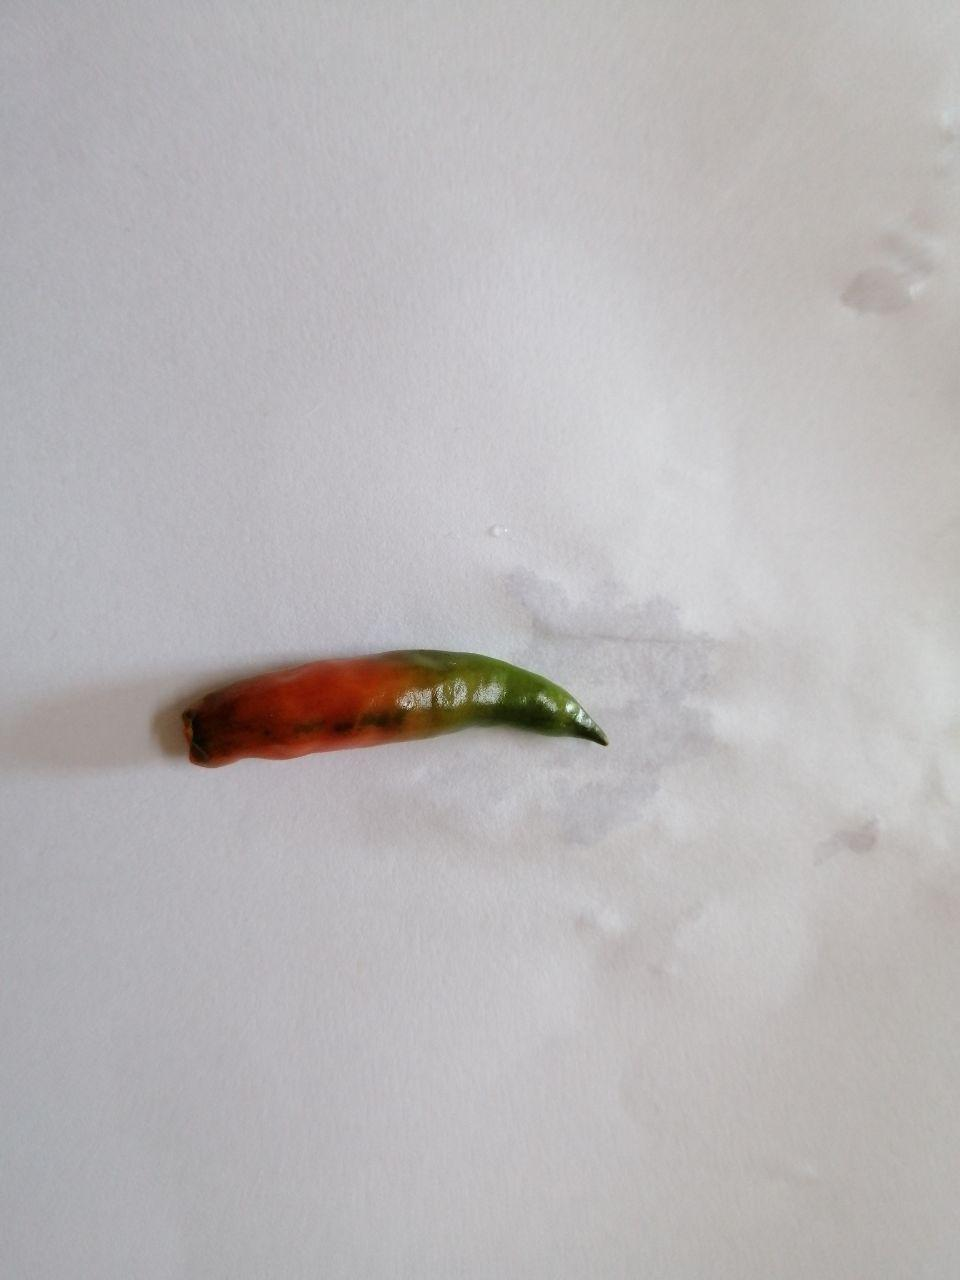lada kuning: (139, 602, 663, 815)
